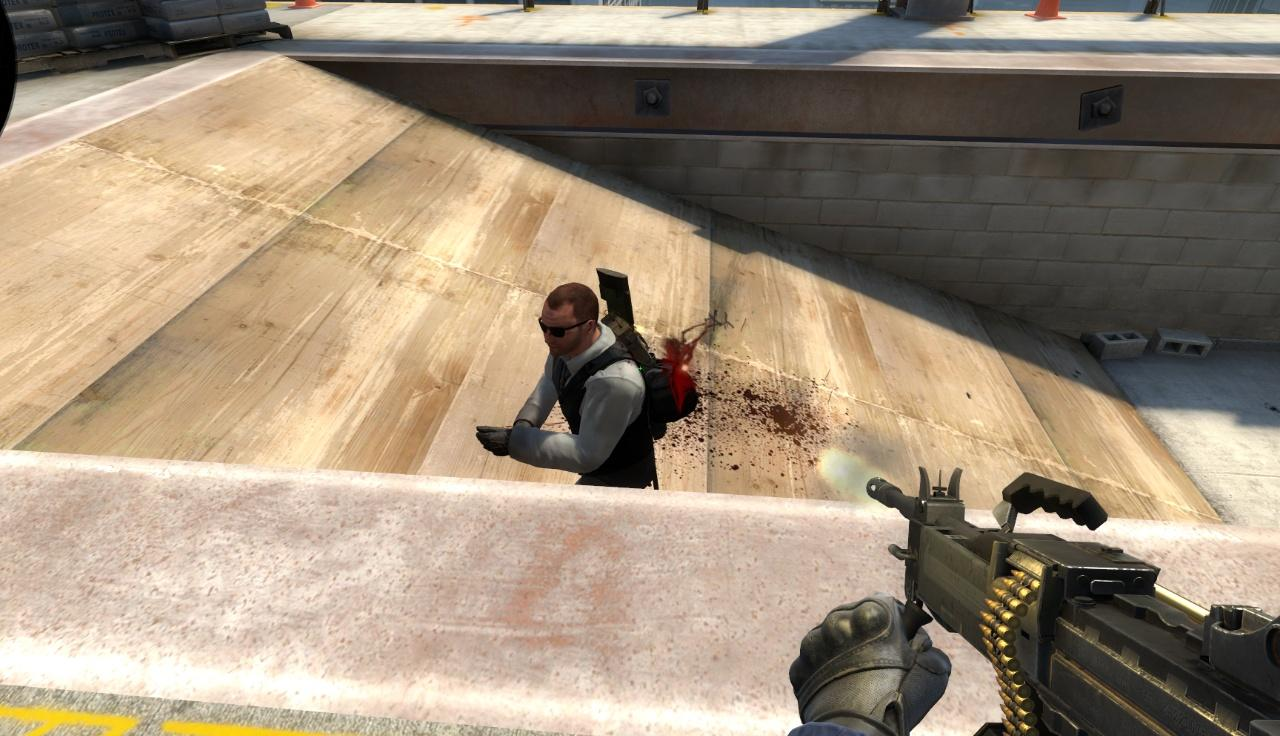rifle: (838, 468, 1280, 736)
tt: (474, 283, 672, 489)
tthead: (537, 283, 599, 356)
